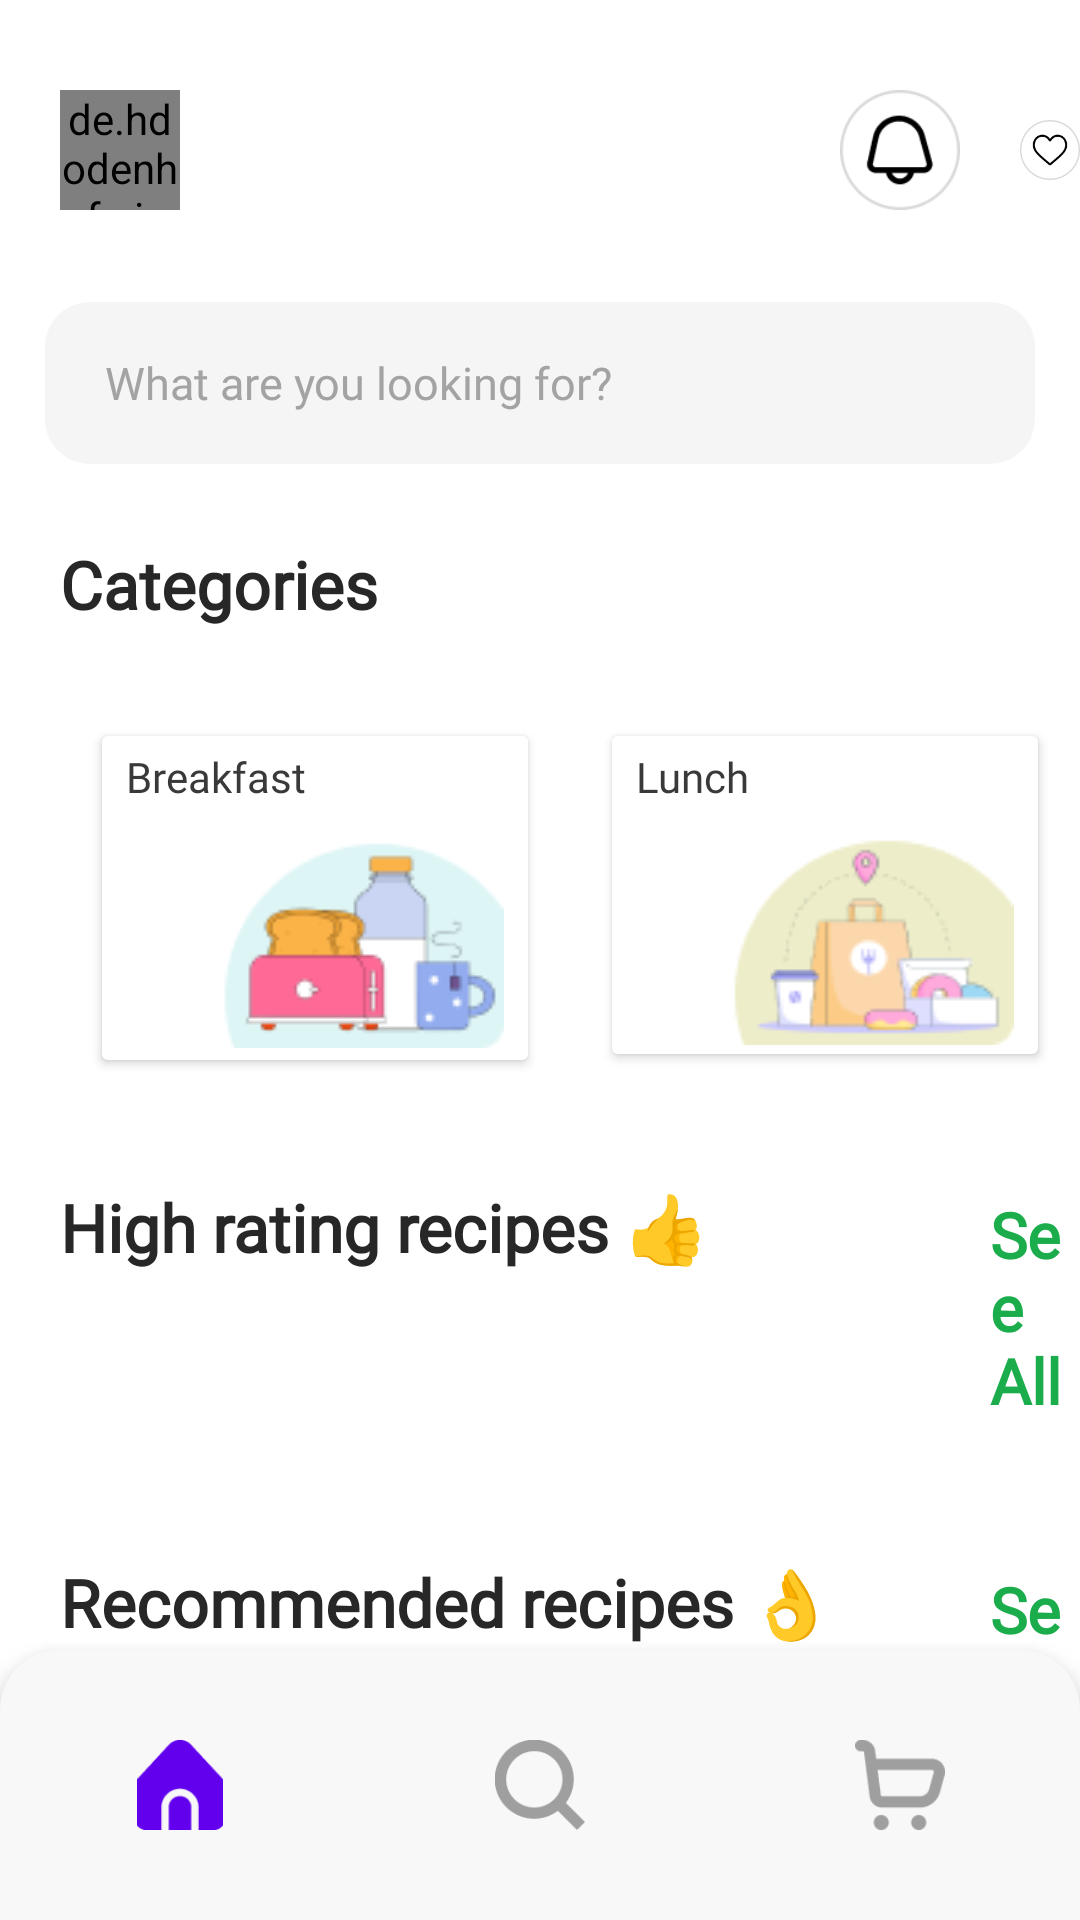

Icons on this 1080*1920 Android screen, each with its box as box(x1, y1, x2, y2):
favorites: box(1020, 120, 1080, 180)
notification: box(840, 90, 960, 210)
